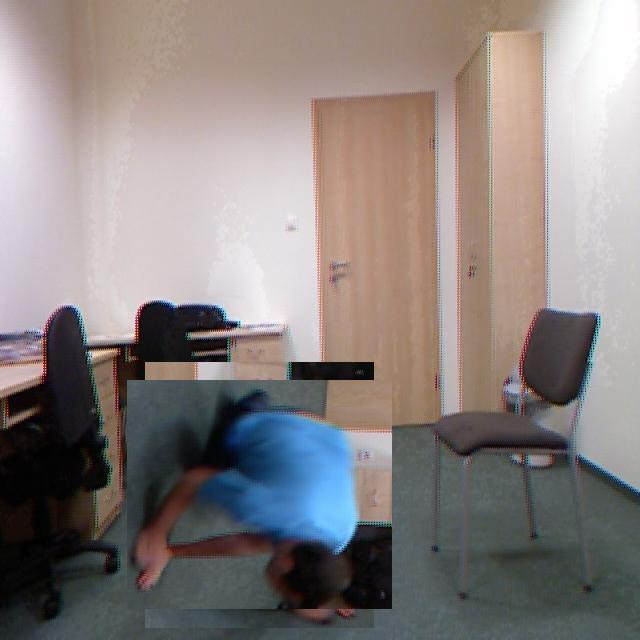Fall: (150, 343, 381, 624)
